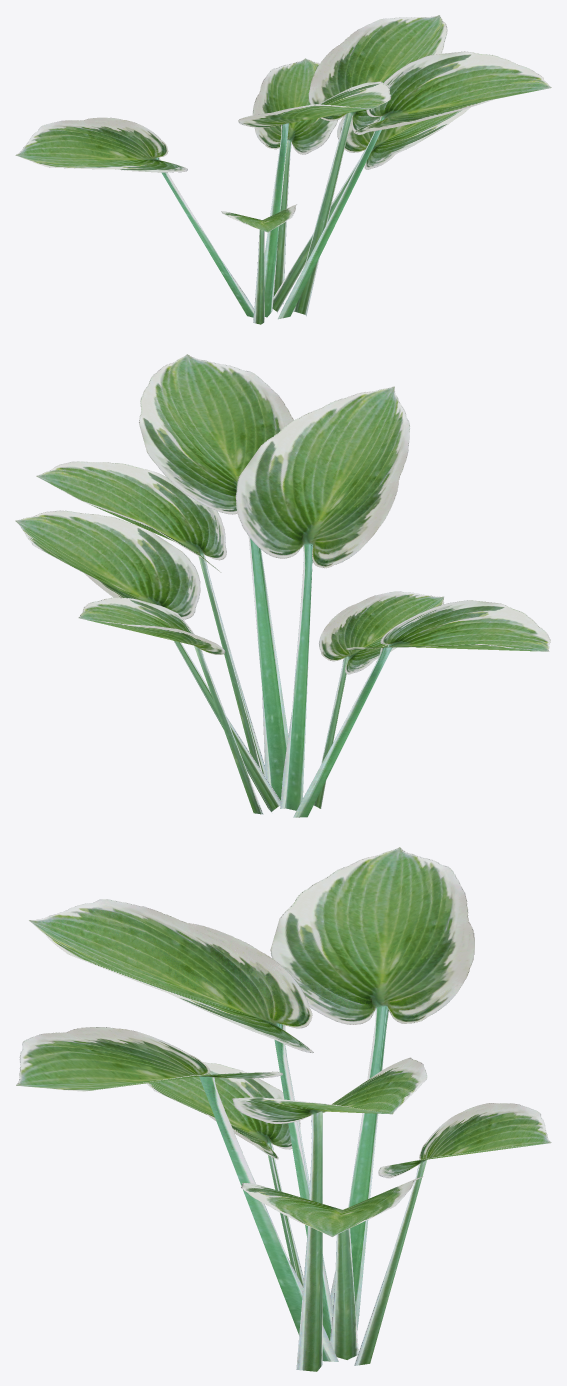
File: plant_small_wg_05R5.fbx
3 views of the same model, one above another, from view 1: azimuth 30°, elevation 25°; view 2: azimuth 150°, elevation 25°; view 3: azimuth 270°, elevation 25° (orthographic). The views are drawn at different scales.
Parts seen in each view (by area): view 1: plant_small_wg_05R5; view 2: plant_small_wg_05R5; view 3: plant_small_wg_05R5.
Part boxes in pixels (<box>): plant_small_wg_05R5: <box>15,15,551,324</box>; plant_small_wg_05R5: <box>15,354,550,817</box>; plant_small_wg_05R5: <box>16,847,551,1371</box>.
Size of the model in its own units: 73.15 by 41.59 by 46.41.
